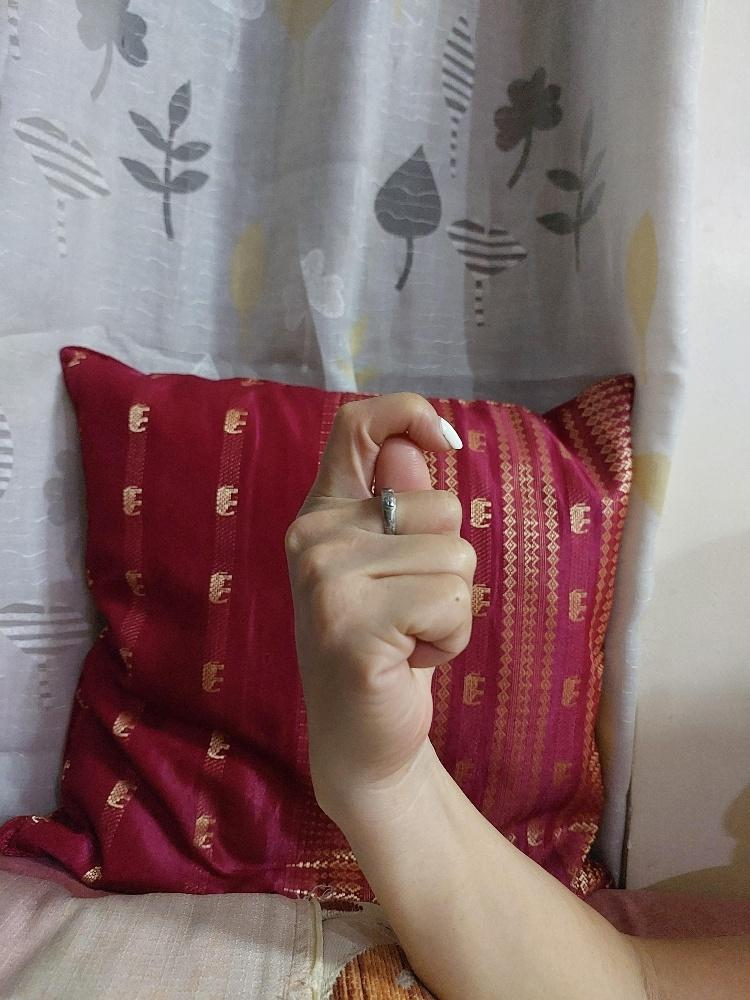t: (279, 386, 480, 784)
